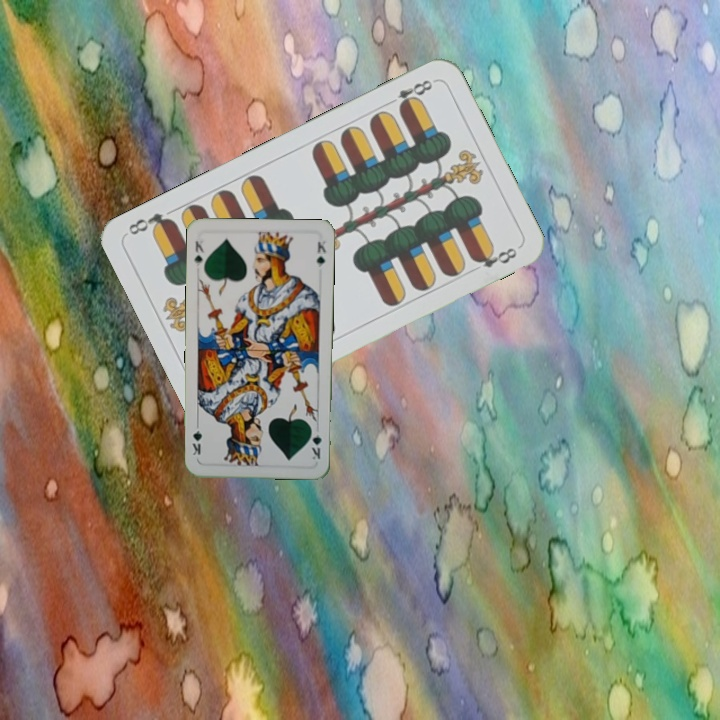E8: (382, 75, 435, 113)
GK: (307, 423, 324, 462), (190, 237, 207, 268)
